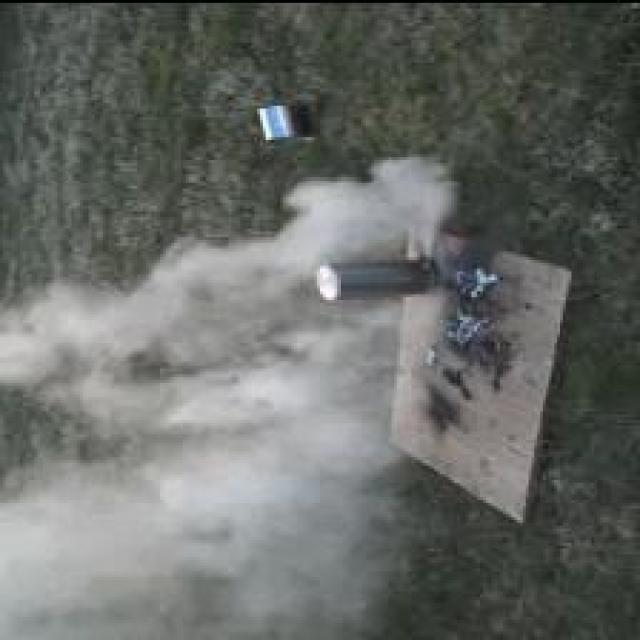Smoke: (5, 155, 458, 640)
